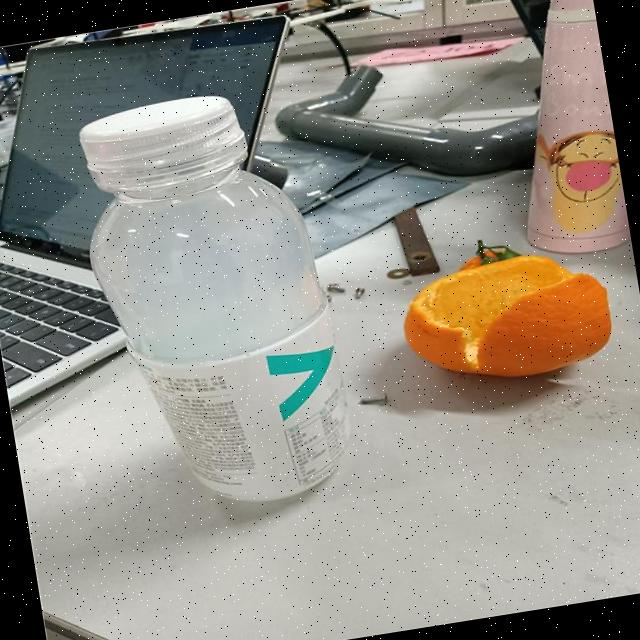orange-peel: (393, 237, 618, 396)
